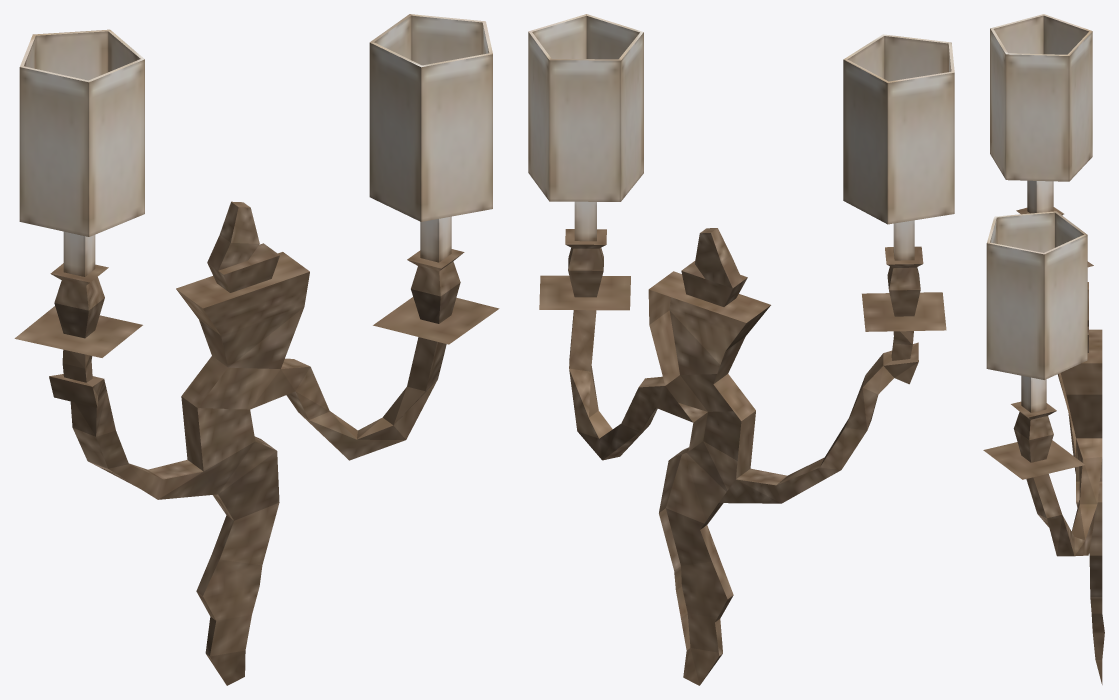
The model's file is ShadeLamp01.obj.
3 views of the same model, side by side, from view 1: azimuth 30°, elevation 25°; view 2: azimuth 150°, elevation 25°; view 3: azimuth 270°, elevation 25° (orthographic). The views are drawn at different scales.
Parts seen in each view (by area): view 1: ShadeLamp01; view 2: ShadeLamp01; view 3: ShadeLamp01.
Boxes of the visible parts, x1=… form: ShadeLamp01: x1=14, y1=14, x2=499, y2=685; ShadeLamp01: x1=528, y1=14, x2=954, y2=685; ShadeLamp01: x1=983, y1=14, x2=1104, y2=684.
Size of the model in its own units: 3.05 by 4.4 by 0.8481.
